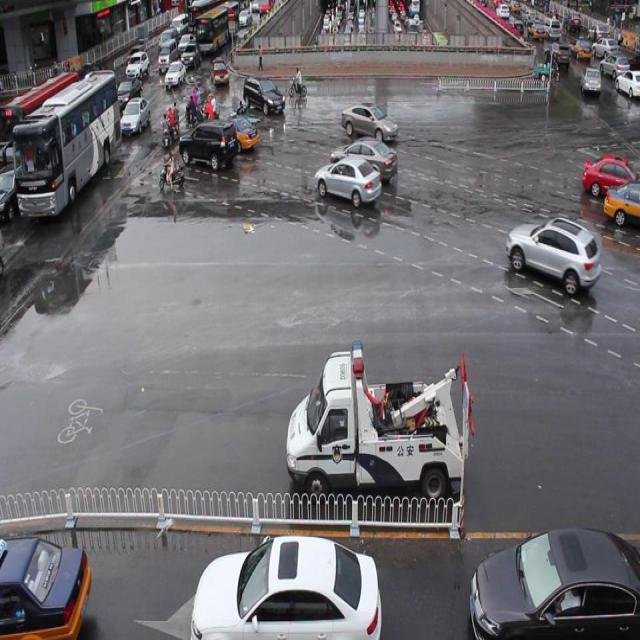bus: (285, 338, 464, 498)
car: (506, 215, 600, 293), (312, 155, 381, 209), (329, 136, 396, 187), (340, 100, 398, 145), (581, 154, 640, 198), (601, 181, 640, 230), (242, 73, 286, 115), (217, 113, 259, 152)
truck: (178, 119, 237, 171)
